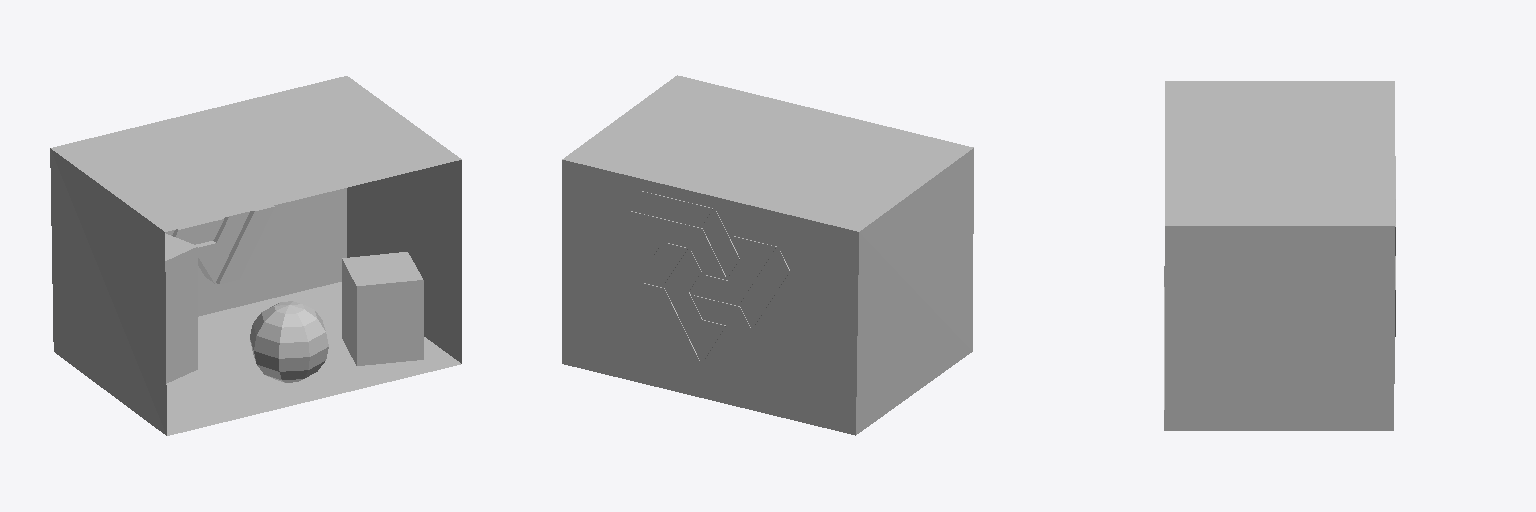
Rendered from luciCornellBox.obj.
3 views of the same model, side by side, from view 1: azimuth 30°, elevation 25°; view 2: azimuth 150°, elevation 25°; view 3: azimuth 270°, elevation 25° (orthographic).
Visible parts, largest first — view 1: ceiling, left_wall, floor, right_wall, back_wall, short_box, sphere, tall_box, logo.001; view 2: back_wall, ceiling, left_wall, logo.001; view 3: right_wall, ceiling.
Boxes of the visible parts, box(x1,y1,x2,y2) form: ceiling: box(51, 76, 461, 231); left_wall: box(50, 148, 166, 435); floor: box(166, 282, 460, 435); right_wall: box(347, 160, 461, 363); back_wall: box(198, 188, 346, 316); short_box: box(342, 252, 423, 365); sphere: box(250, 301, 328, 382); tall_box: box(165, 233, 197, 383); logo.001: box(165, 206, 274, 283); back_wall: box(562, 160, 858, 435); ceiling: box(562, 75, 973, 231); left_wall: box(856, 148, 973, 434); logo.001: box(631, 191, 789, 361); right_wall: box(1164, 226, 1394, 430); ceiling: box(1165, 81, 1394, 225).
Size of the model in its own units: 8.34 by 5.49 by 5.62.